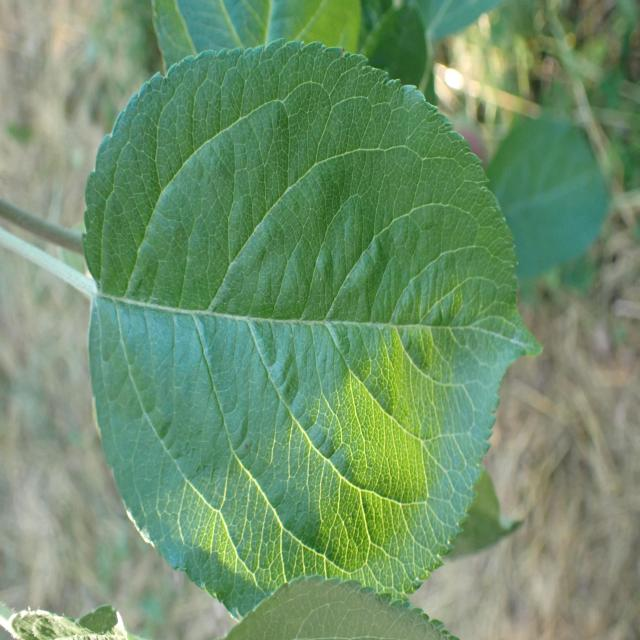healthy: (82, 36, 544, 620), (220, 575, 461, 640)
